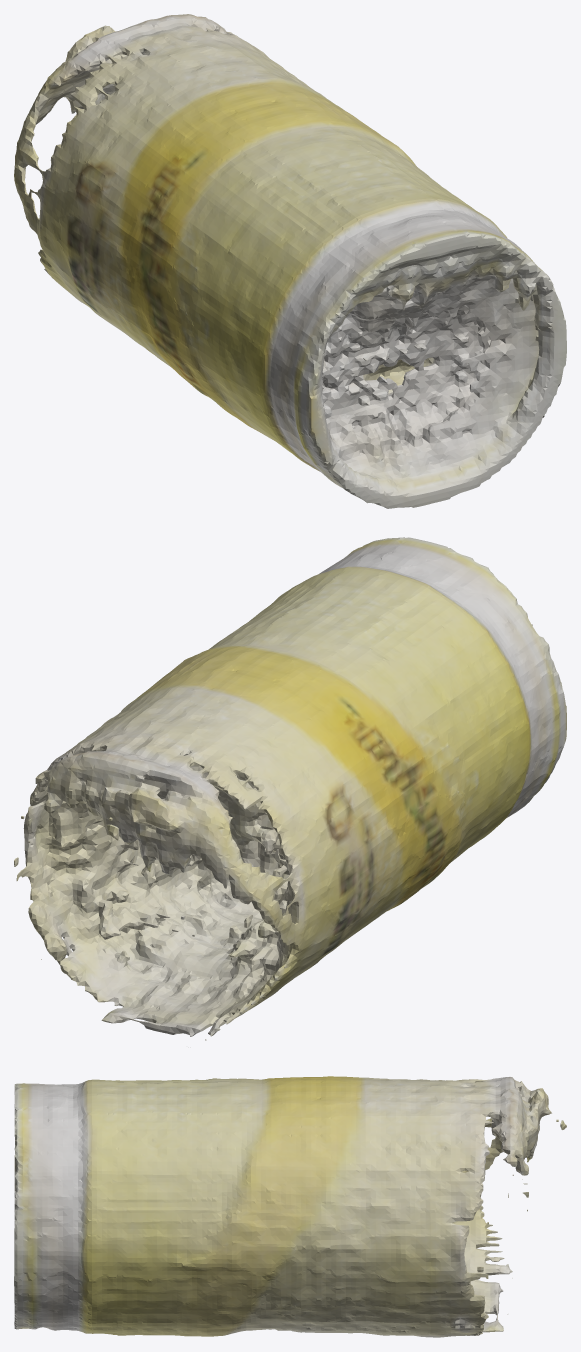
3 renders of one model, top to bottom at view 1: azimuth 30°, elevation 25°; view 2: azimuth 150°, elevation 25°; view 3: azimuth 270°, elevation 25°, orthographic. The views are drawn at different scales.
Parts seen in each view (by area): view 1: geometry_0; view 2: geometry_0; view 3: geometry_0.
Boxes of the visible parts, left/top/right/bottom form: geometry_0: left=14, top=14, right=566, bottom=508; geometry_0: left=14, top=537, right=566, bottom=1040; geometry_0: left=14, top=1076, right=566, bottom=1337.
Size of the model in its own units: 0.9059 by 0.845 by 1.83.
